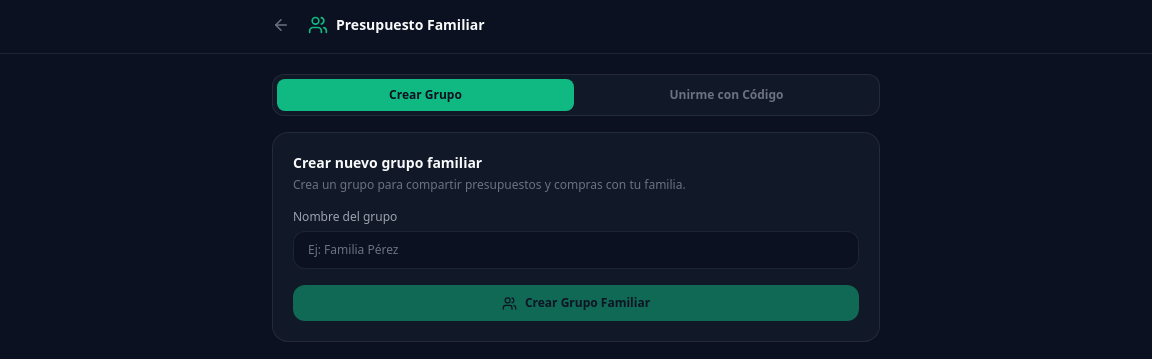
Test: FamilyPage Component › switches between create and join tabs
This screenshot has width=1152, height=359.
Click the button "Unirme con Código" at (726, 95), box [578,79,875,111]
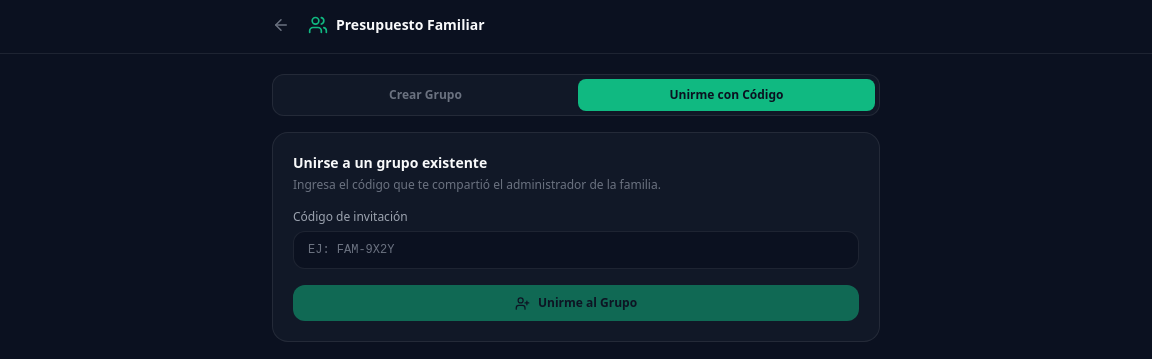
Check: the heading "Unirse a un grupo existente" is shown, box [293,153,487,172]
Check: the field with placeholder "Ej: FAM-9X2Y" is shown, box [293,231,859,269]
